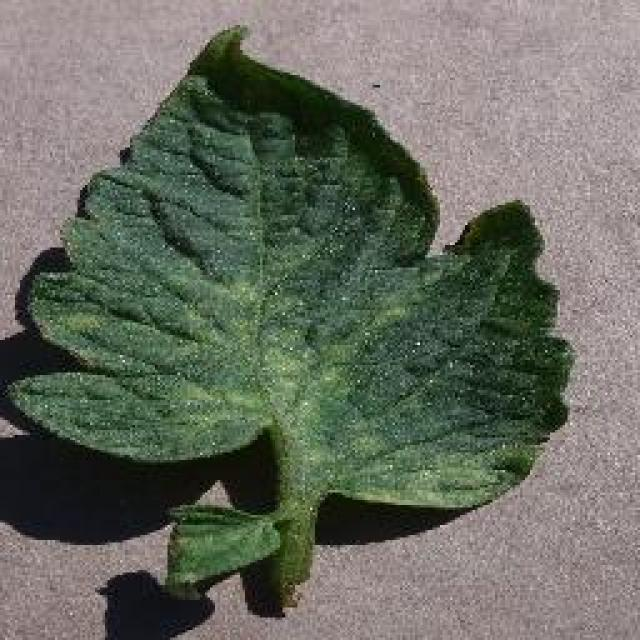Tomato mold leaf: (17, 21, 575, 516)
